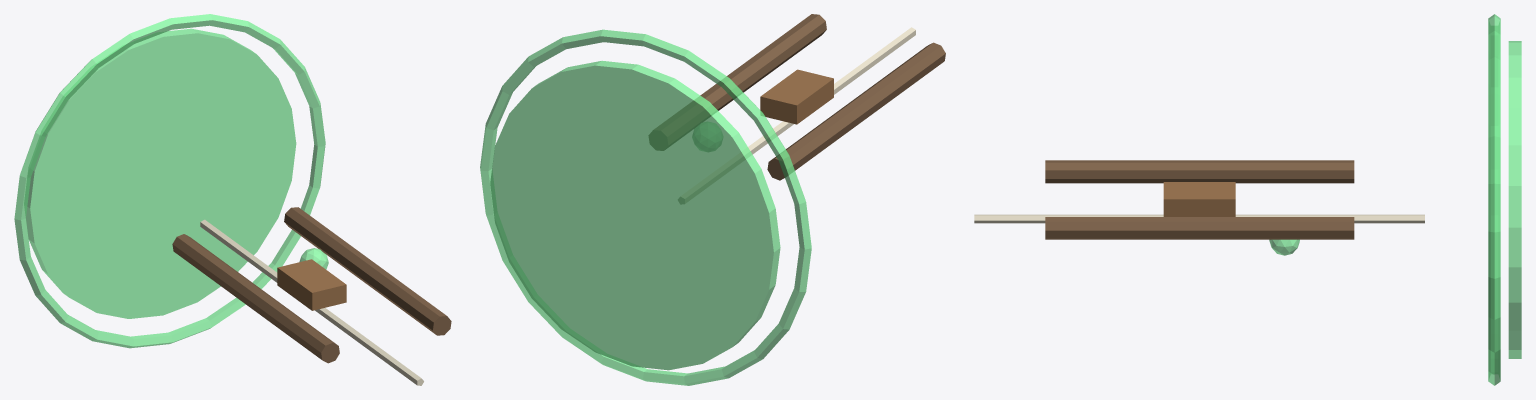
The model's file is weapon_pickup_hunter_bow_uncommon.glb.
3 renders of one model, left to right at view 1: azimuth 30°, elevation 25°; view 2: azimuth 150°, elevation 25°; view 3: azimuth 270°, elevation 25°, orthographic. The views are drawn at different scales.
Visible parts, largest first — view 1: rarity_base_disc, rarity_orbit_ring, bow_lower, bow_upper, grip, string; view 2: rarity_base_disc, rarity_orbit_ring, bow_lower, bow_upper, grip, string, charm; view 3: bow_upper, bow_lower, rarity_orbit_ring, rarity_base_disc, grip, string.
Boxes of the visible parts, box(x1,y1,x2,y2) form: rarity_base_disc: box(24, 28, 296, 318); rarity_orbit_ring: box(14, 14, 325, 348); bow_lower: box(284, 207, 451, 335); bow_upper: box(172, 234, 339, 363); grip: box(277, 259, 346, 310); string: box(200, 219, 423, 385); rarity_base_disc: box(490, 60, 780, 370); rarity_orbit_ring: box(480, 29, 811, 385); bow_lower: box(649, 14, 826, 150); bow_upper: box(767, 42, 945, 180); grip: box(760, 69, 833, 124); string: box(678, 27, 915, 203); charm: box(692, 122, 722, 151); bow_upper: box(1045, 160, 1354, 183); bow_lower: box(1045, 217, 1354, 239); rarity_orbit_ring: box(1488, 14, 1500, 385); rarity_base_disc: box(1508, 41, 1521, 358); grip: box(1163, 182, 1235, 216); string: box(974, 214, 1424, 223).
Bounding box in the file's own units: 1.45 × 1.45 × 2.12.
